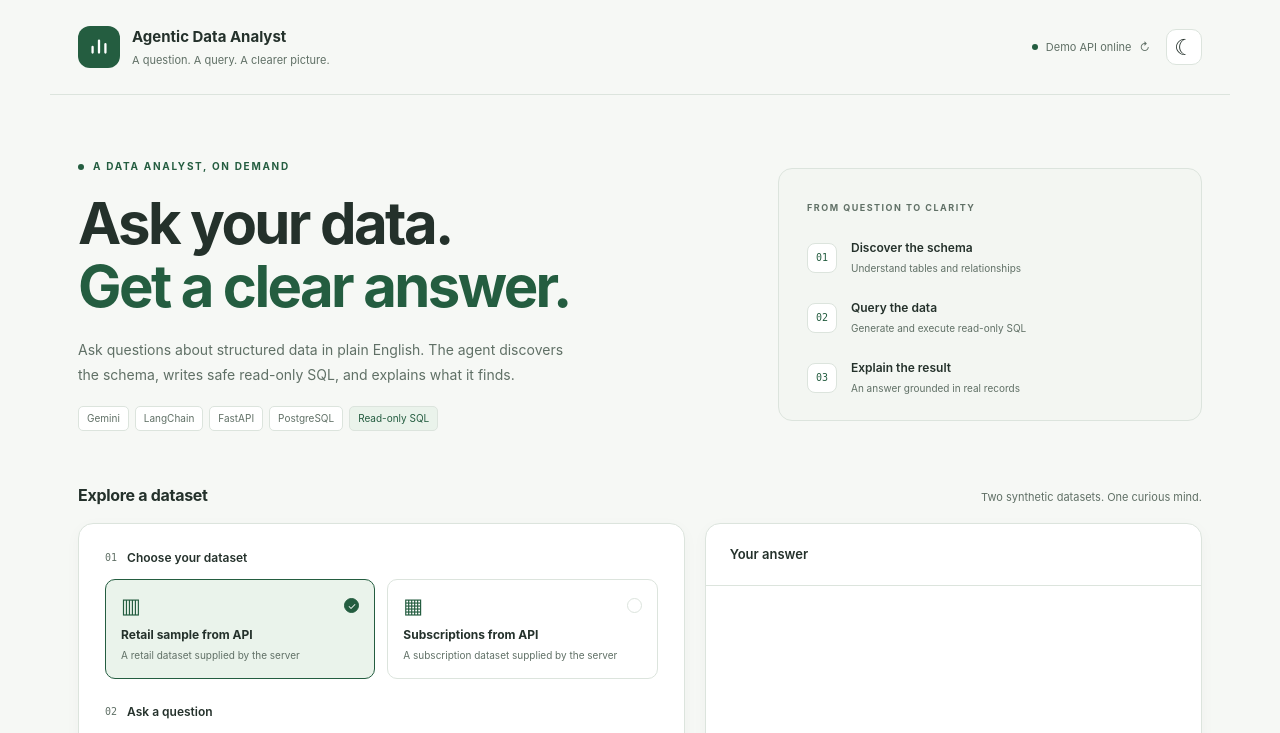
it: public analyst workspace › selects datasets with native radio controls and updates example suggestions
The width and height of the screenshot is (1280, 733).
Expected: the radio button labelled "Retail sample" is enabled, [105,579,375,679]
Click the radio button labelled "Subscriptions from API" at (522,629), box [387,579,658,679]
(page scrolled)
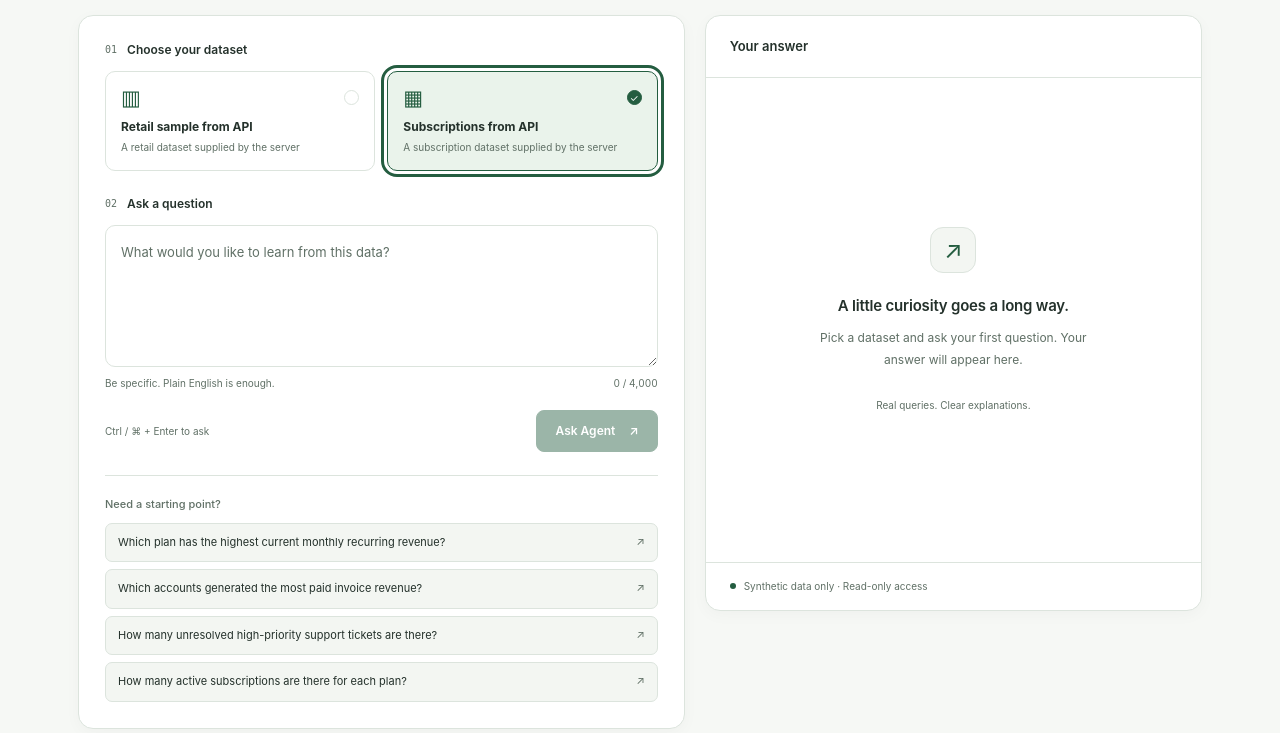
Result: the radio button labelled "Subscriptions from API" is checked at [387,71,658,171]
Result: the button "How many unresolved high-priority support tickets are there?" is shown at [105,616,658,655]
